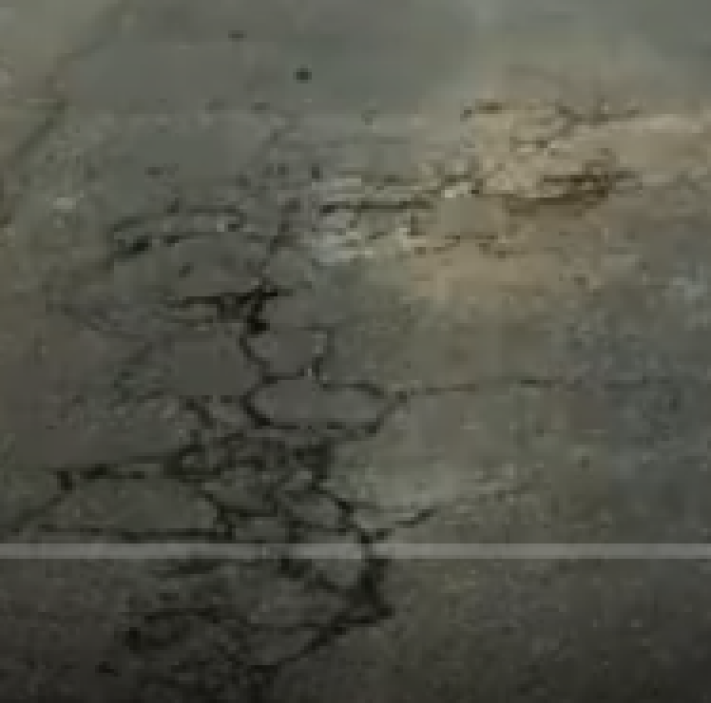Retak Buaya: (64, 120, 694, 303), (37, 280, 444, 543), (84, 560, 411, 703), (1, 93, 79, 268), (39, 9, 126, 102)
